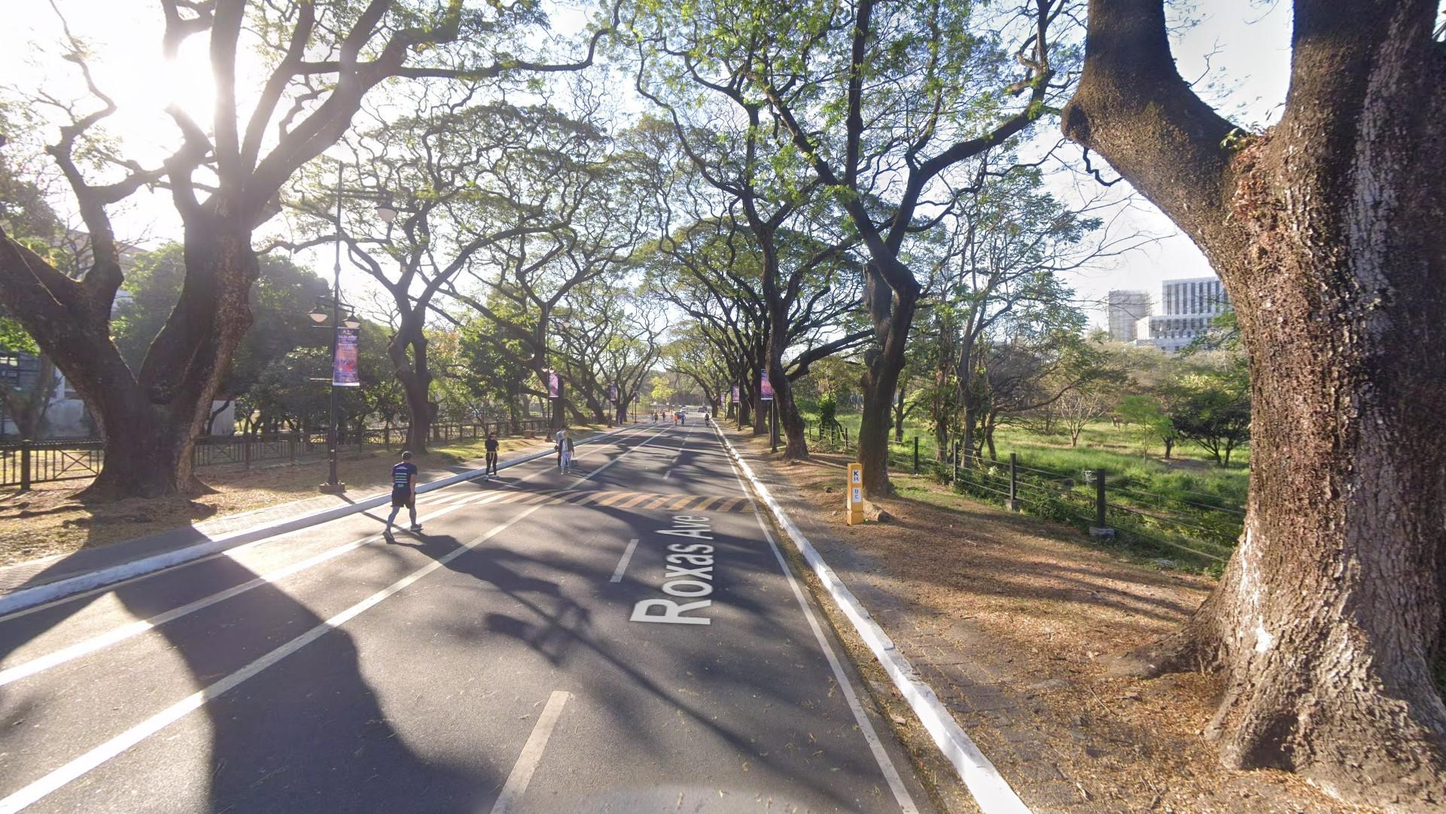cyclist: (680, 412, 687, 426), (704, 413, 710, 427)
pedestrian: (383, 450, 423, 542), (554, 430, 579, 474), (483, 431, 502, 482), (555, 425, 568, 470), (618, 412, 624, 428), (672, 412, 678, 426), (653, 412, 659, 424), (661, 411, 666, 421), (650, 412, 654, 424)
